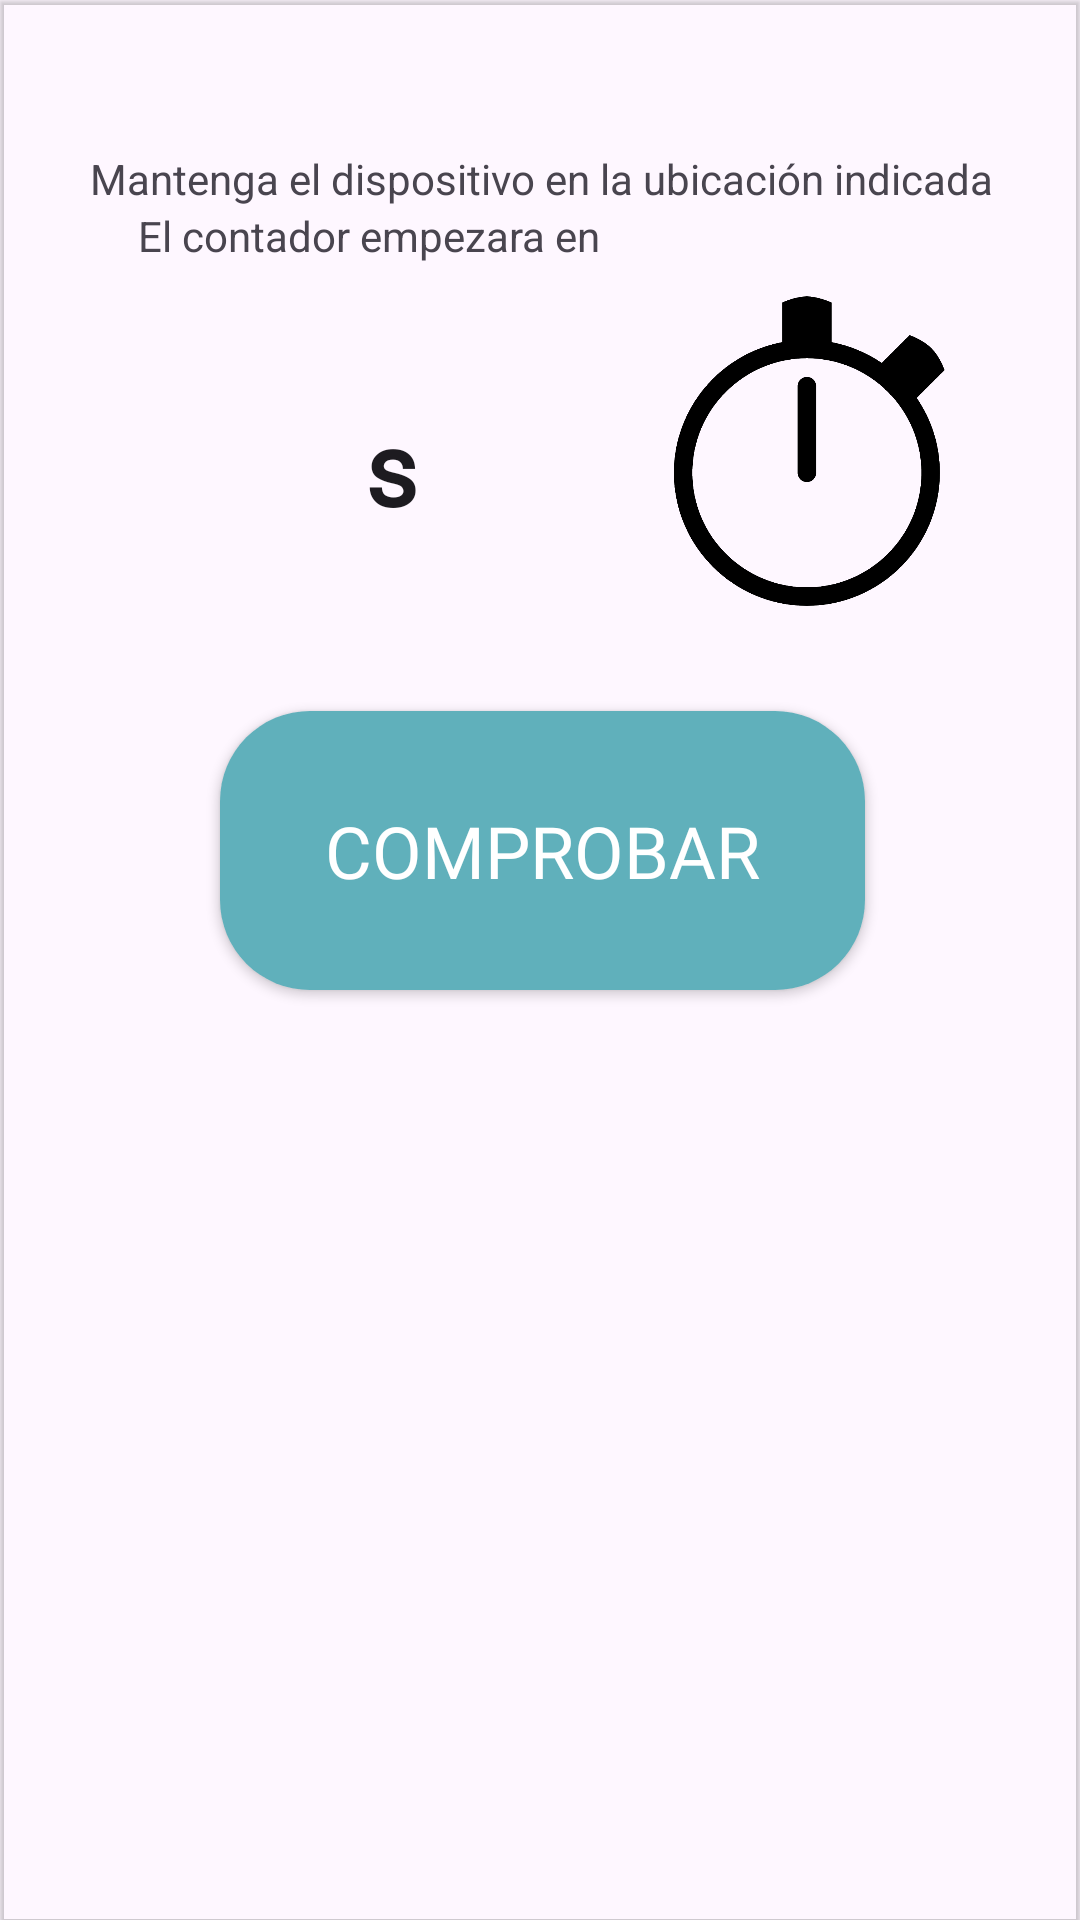

Where to tap for icons on this 1080px×1920px app screen, as (x=x, y=y):
reloj: (x=809, y=451)
